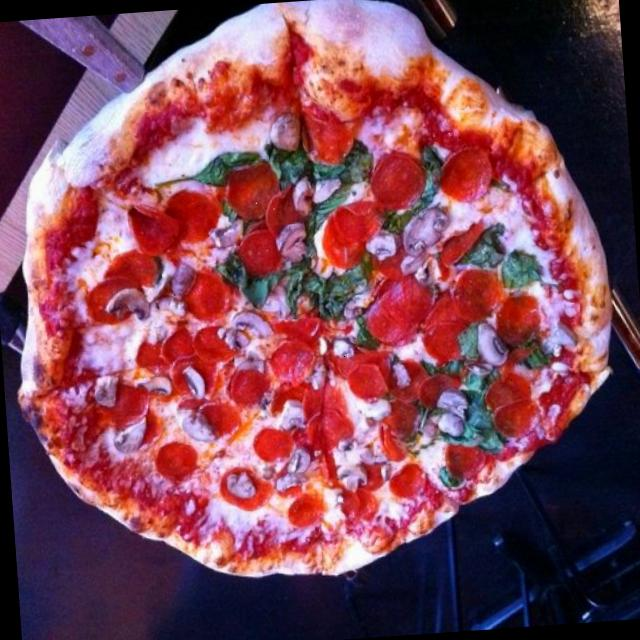basil: (258, 256, 378, 321)
mushrooms: (376, 201, 462, 285), (138, 262, 209, 324), (70, 358, 142, 414), (218, 297, 270, 373), (258, 221, 329, 267), (268, 436, 322, 494), (92, 286, 156, 332), (284, 170, 344, 219), (172, 360, 220, 412), (264, 106, 307, 156), (108, 414, 153, 461), (468, 326, 516, 370), (358, 225, 406, 265), (175, 408, 223, 444), (218, 468, 259, 510), (330, 460, 374, 498)
pepperoni: (354, 258, 469, 375), (143, 316, 234, 399), (418, 128, 500, 212), (366, 123, 424, 217), (376, 394, 438, 464), (311, 204, 378, 268), (218, 162, 282, 228), (334, 348, 396, 416), (118, 208, 195, 262), (159, 189, 221, 255), (89, 250, 166, 299), (208, 464, 281, 515), (73, 262, 121, 331), (89, 380, 150, 434), (493, 377, 537, 445), (238, 222, 290, 274), (258, 182, 304, 240), (336, 476, 386, 528), (162, 433, 200, 493), (270, 330, 310, 387), (283, 492, 332, 536), (202, 402, 250, 437), (254, 426, 292, 462)
pizza: (19, 0, 611, 575)
